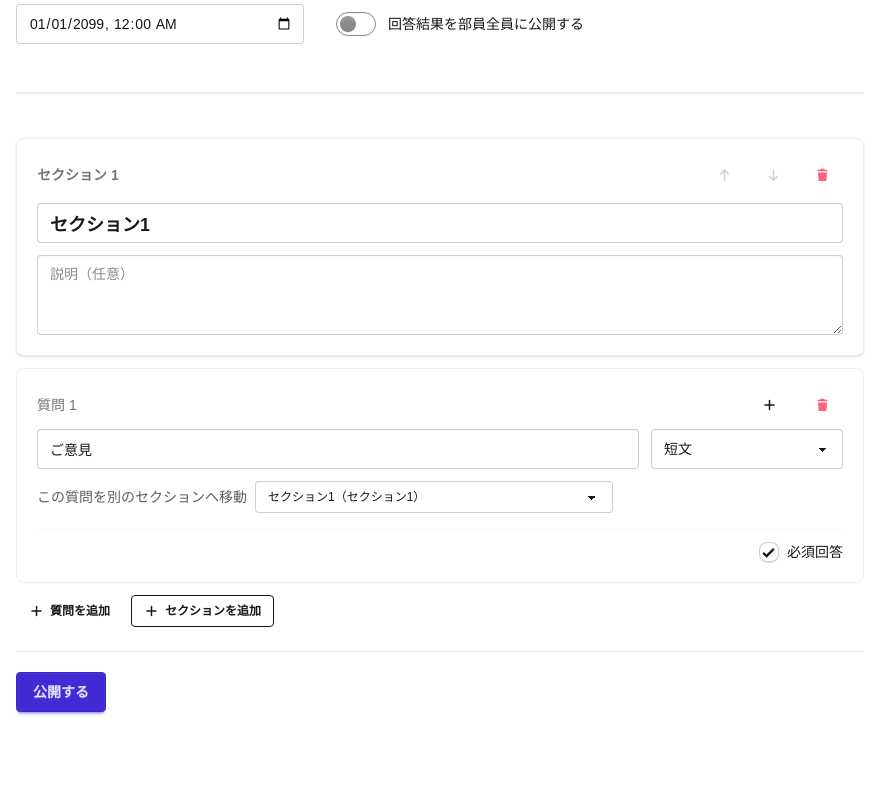
it: 作成中のアンケート › 各質問から、その直後に新しい質問を追加できる
(page scrolled)
Check: the field named "質問 1 の質問文" is shown, box [37,429,639,469]
Click the button named "質問 1 の下に追加". click: (770, 405)
box: [749,389,790,421]
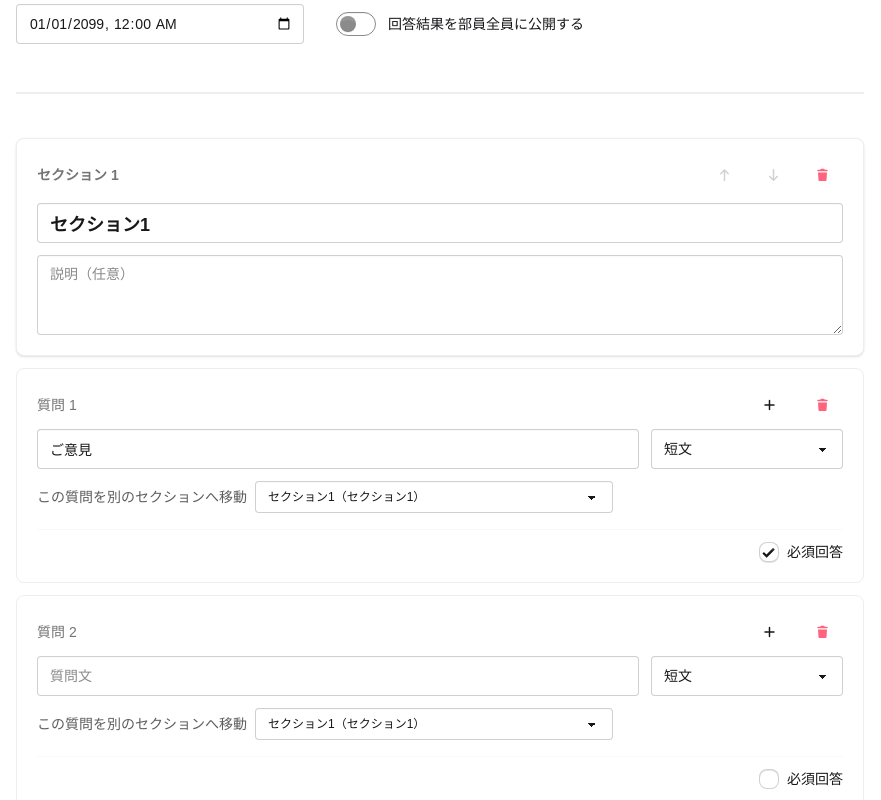
Check: the field named "質問 2 の質問文" is shown, box [37,656,639,696]
